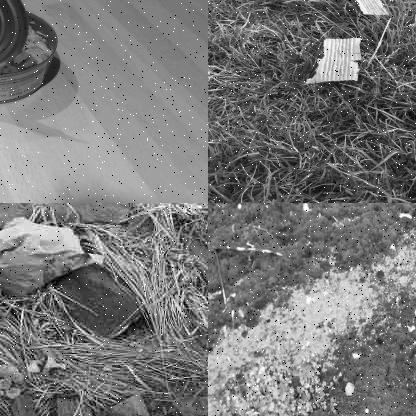cardboard: (310, 39, 364, 83), (336, 0, 387, 19)
metal: (0, 0, 63, 101)
plastic: (0, 216, 93, 301), (0, 377, 25, 401), (28, 357, 43, 383)
